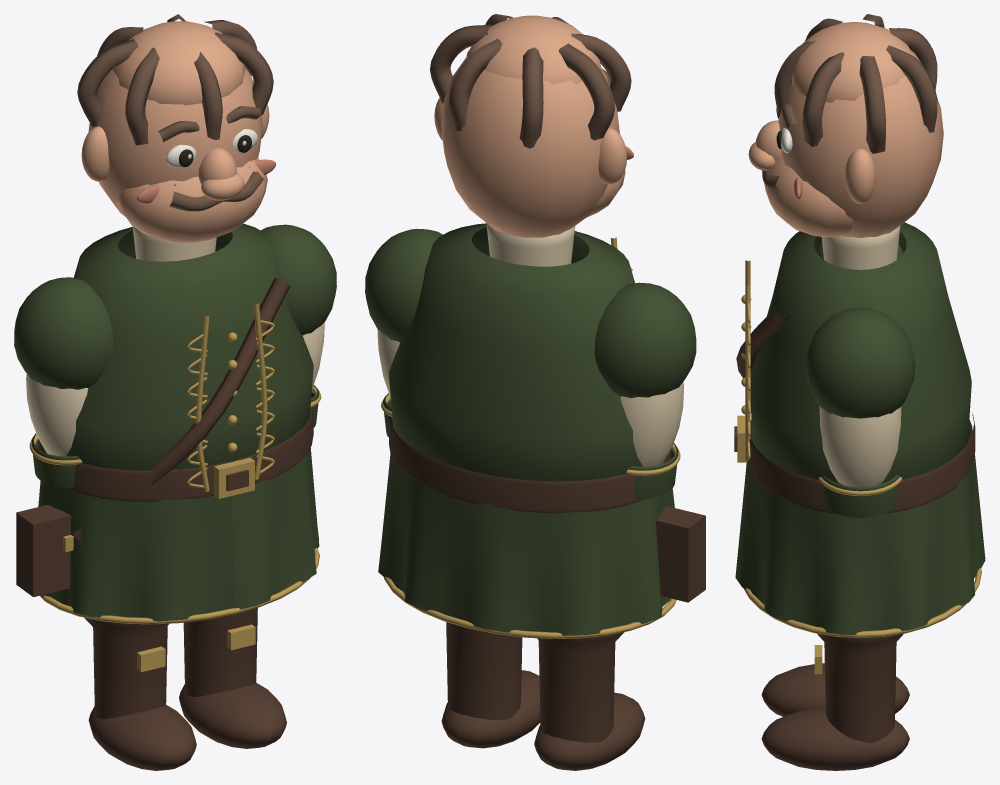
File: steward.glb
The picture shows the model from 3 angles, left to right: view 1: azimuth 30°, elevation 25°; view 2: azimuth 150°, elevation 25°; view 3: azimuth 270°, elevation 25°; orthographic projection. The views are drawn at different scales.
Visible parts, largest first — view 1: Velvet steward (×3), Leather (×3), Skin steward, Hair steward, Antique brass (×3), Ivory woven cloth (×3), Eye white; view 2: Velvet steward (×3), Leather (×3), Skin steward, Hair steward, Ivory woven cloth (×3), Antique brass; view 3: Velvet steward (×2), Skin steward, Leather (×3), Hair steward, Ivory woven cloth (×2), Antique brass (×2).
Boxes of the visible parts, x1=… form: Velvet steward (×3): x1=14, y1=223, x2=336, y2=621; Leather (×3): x1=16, y1=278, x2=313, y2=770; Skin steward: x1=81, y1=21, x2=269, y2=242; Hair steward: x1=77, y1=14, x2=273, y2=211; Antique brass (×3): x1=39, y1=303, x2=319, y2=672; Ivory woven cloth (×3): x1=26, y1=226, x2=324, y2=456; Eye white: x1=166, y1=129, x2=257, y2=167; Velvet steward (×3): x1=365, y1=223, x2=696, y2=635; Leather (×3): x1=389, y1=416, x2=705, y2=770; Skin steward: x1=434, y1=15, x2=626, y2=237; Hair steward: x1=430, y1=14, x2=631, y2=148; Ivory woven cloth (×3): x1=377, y1=223, x2=683, y2=466; Antique brass: x1=384, y1=237, x2=676, y2=638; Velvet steward (×2): x1=735, y1=222, x2=985, y2=634; Skin steward: x1=748, y1=22, x2=943, y2=238; Leather (×3): x1=734, y1=306, x2=975, y2=770; Hair steward: x1=762, y1=14, x2=937, y2=192; Ivory woven cloth (×2): x1=819, y1=226, x2=901, y2=487; Antique brass (×2): x1=737, y1=260, x2=981, y2=637.
Size of the model in its own units: 0.9442 by 2.07 by 0.6595.
